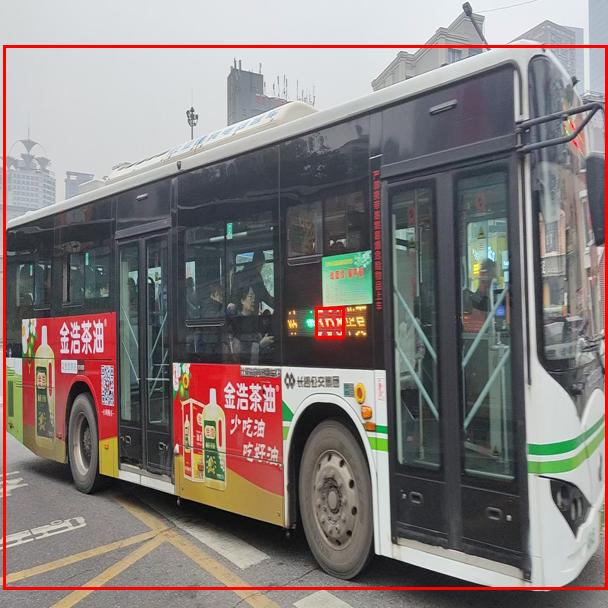bus: (3, 45, 607, 589)
screen: (315, 307, 344, 338)
